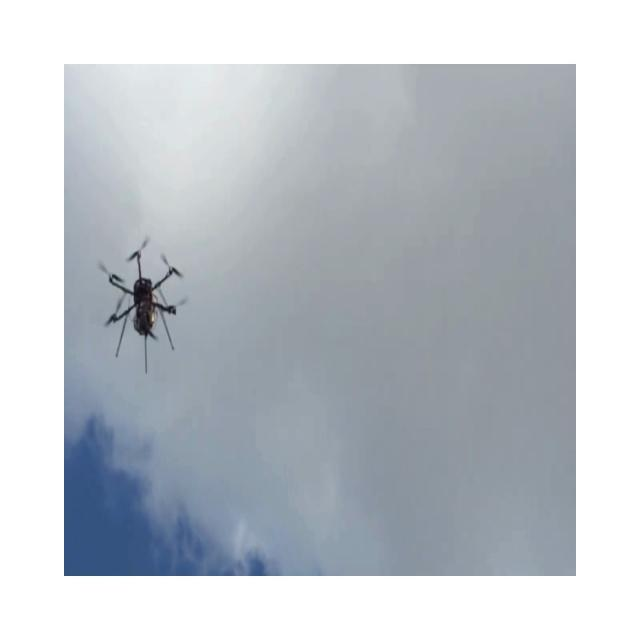drone: (97, 233, 188, 374)
